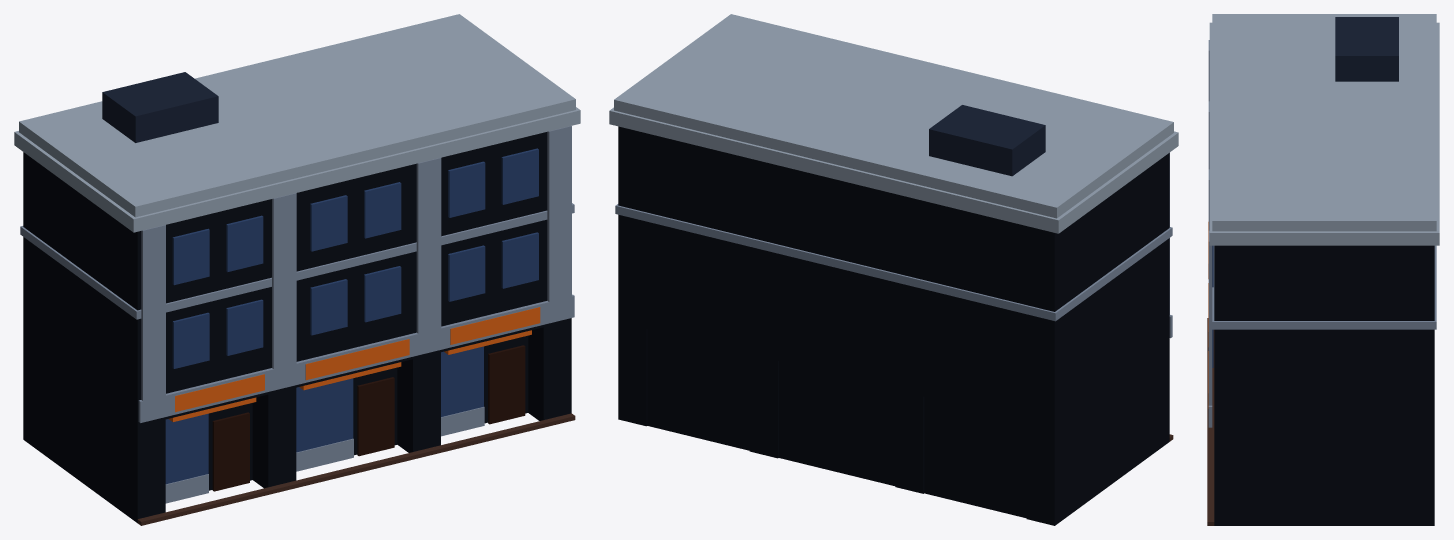
Rendered from retailpark1.obj.
3 renders of one model, left to right at view 1: azimuth 30°, elevation 25°; view 2: azimuth 150°, elevation 25°; view 3: azimuth 270°, elevation 25°, orthographic. The views are drawn at different scales.
Parts seen in each view (by area): view 1: cornice, upper-block, ground-piers, upper-windows, pilasters, shopfronts, shop-doors, roof-plant, fascia-band, fascia-signs, floor-band, pavement (+4 smaller); view 2: upper-block, cornice, ground-back, ground-piers, shopfront-heads, roof-plant, floor-band; view 3: cornice, upper-block, ground-piers, roof-plant, floor-band, pavement, pilasters.
Boxes of the visible parts, box(x1,y1,x2,y2) form: cornice: box(14, 14, 580, 232); upper-block: box(23, 132, 547, 399); ground-piers: box(23, 300, 571, 522); upper-windows: box(172, 148, 538, 368); pilasters: box(141, 126, 571, 400); shopfronts: box(165, 346, 483, 484); shop-doors: box(212, 345, 525, 491); roof-plant: box(102, 72, 218, 142); fascia-band: box(138, 294, 574, 422); fascia-signs: box(175, 307, 540, 412); floor-band: box(20, 203, 574, 319); pavement: box(137, 413, 575, 525); upper-block: box(618, 126, 1169, 401); cornice: box(609, 14, 1178, 233); ground-back: box(647, 329, 1026, 518); ground-piers: box(618, 295, 1169, 525); shopfront-heads: box(646, 302, 1026, 421); roof-plant: box(929, 105, 1045, 176); floor-band: box(615, 204, 1172, 321); cornice: box(1209, 14, 1439, 245); upper-block: box(1214, 245, 1434, 406); ground-piers: box(1214, 407, 1434, 525); roof-plant: box(1335, 17, 1398, 81); floor-band: box(1212, 245, 1436, 329); pavement: box(1207, 318, 1214, 525); pilasters: box(1208, 40, 1212, 405).
Bounding box in the file's own units: 7 × 5.18 × 3.27.
